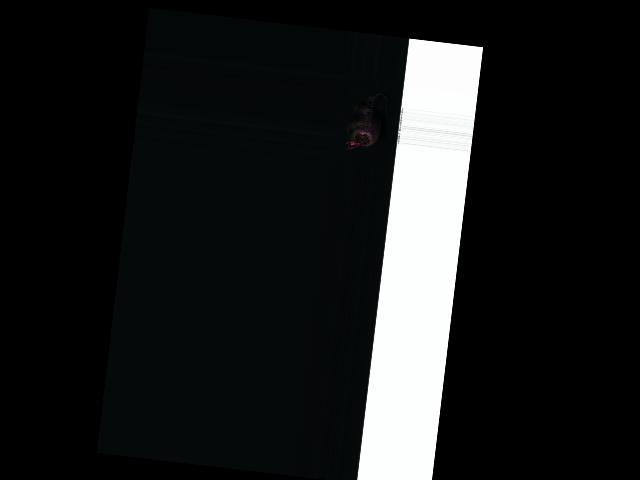beet: (344, 90, 392, 156)
